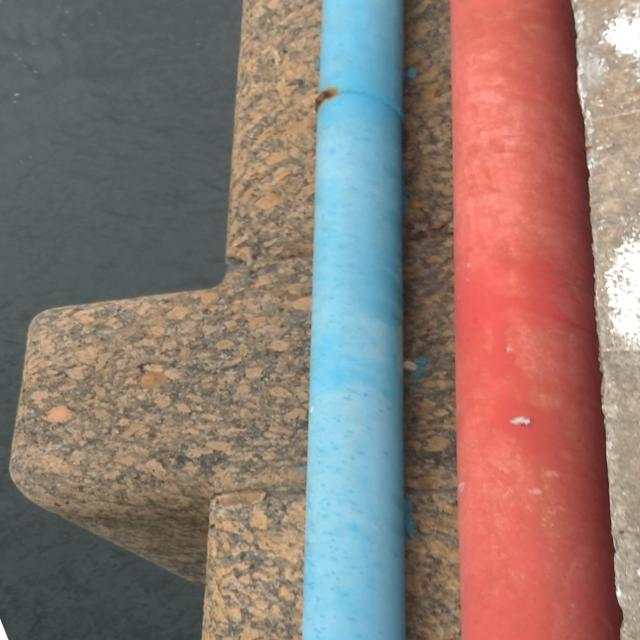gas: (451, 0, 614, 637), (298, 2, 411, 640)
